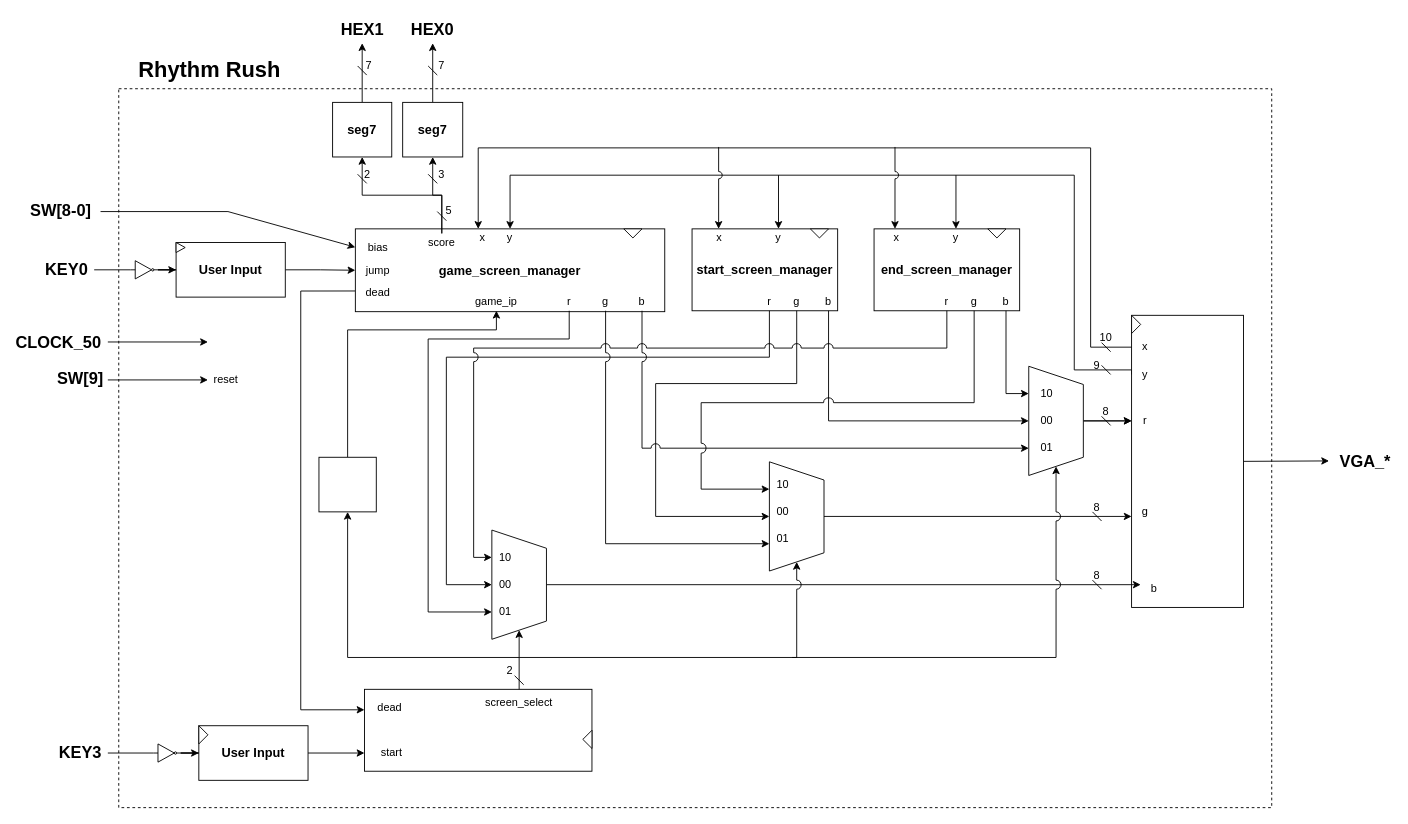
The diagram is 1408 pixels wide and 824 high, and some of its shapes have lost their labels. Each missing label, with the box of its shape:
= 2'b01: (318, 456, 376, 512)
screen_controller: (364, 688, 592, 771)
video_driver: (1131, 314, 1244, 607)
